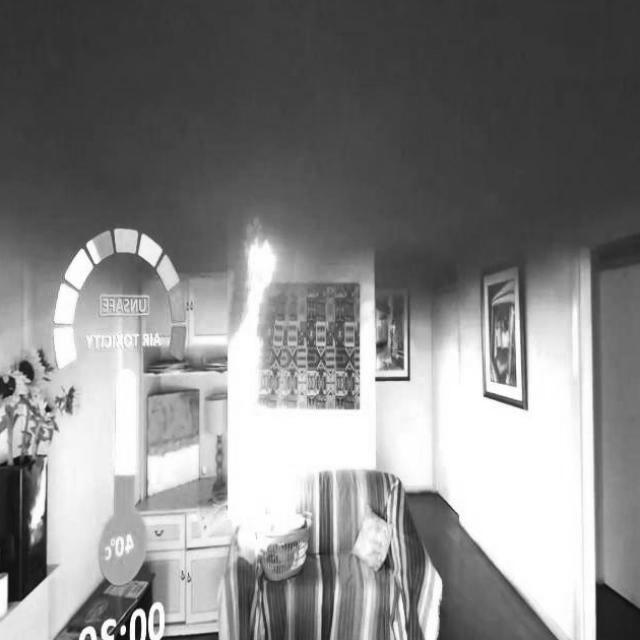smoke: (228, 193, 302, 518)
